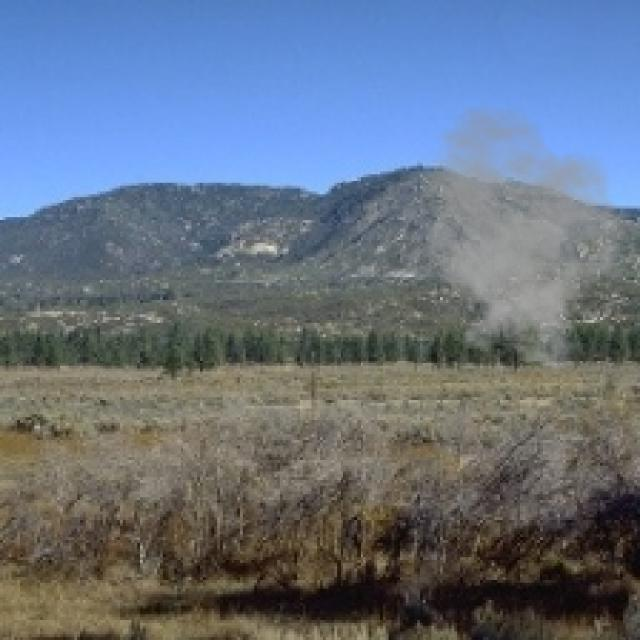Smoke: (400, 102, 634, 372)
